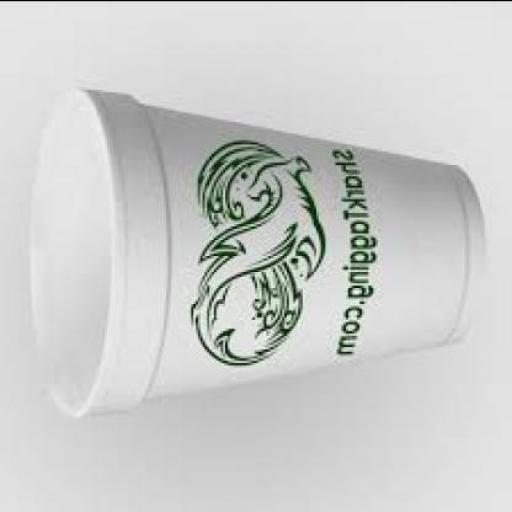paper: (22, 84, 485, 412)
